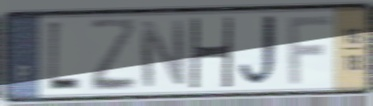F: (285, 13, 333, 87)
H: (187, 16, 236, 90)
J: (237, 12, 283, 91)
L: (46, 18, 83, 96)
N: (137, 18, 188, 91)
Z: (87, 15, 139, 94)
